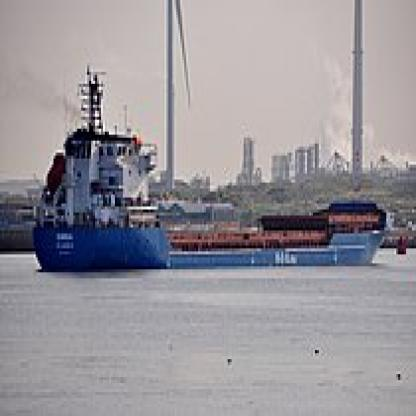Tanker: (38, 81, 380, 266)
